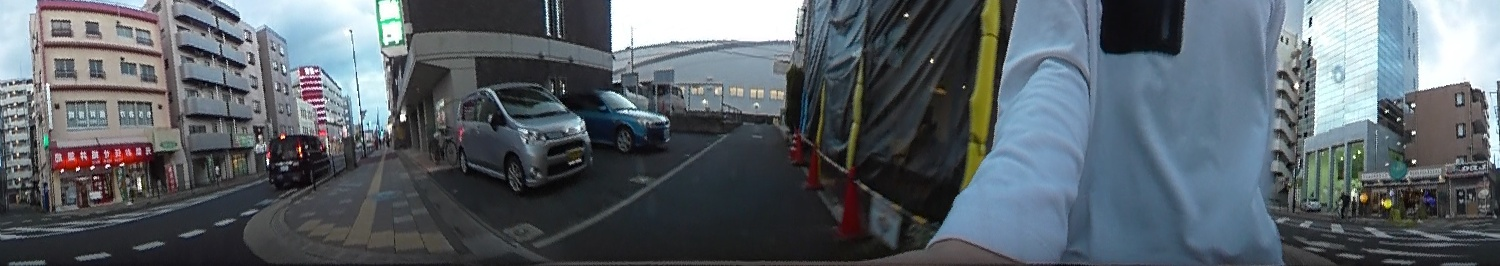difficult_person: (1338, 193, 1350, 220)
